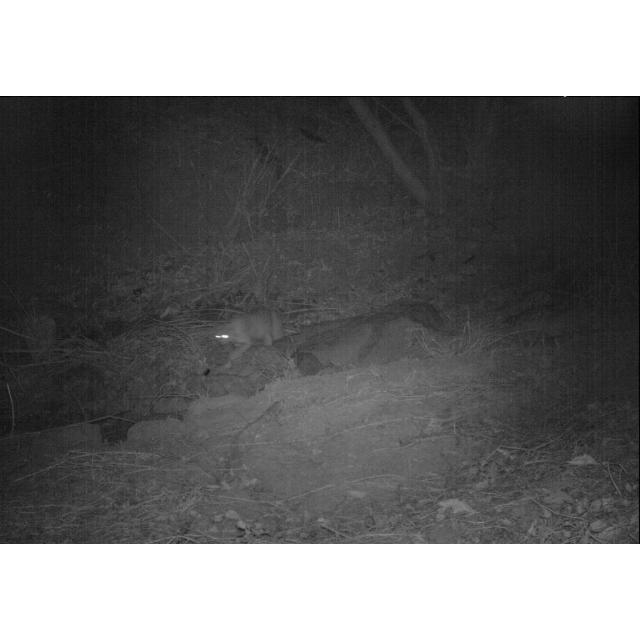animals: (210, 305, 300, 363)
